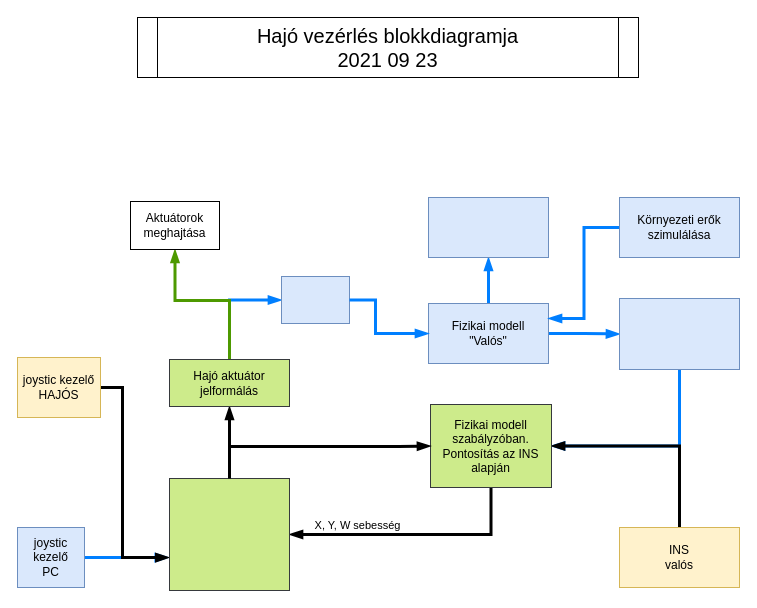
The diagram is 757 pixels wide and 608 high, and some of its shapes have lost their labels. The box of each missing label's shape, as (x1, y1, x2, y2) in pixels:
Hajó aktuátor modell: (280, 276, 350, 324)
INS szimulált + GPS hiba: (618, 298, 740, 370)
Megjelenító PC-n: (428, 196, 548, 258)
PI x, y, w szabályzók + Aktuátorokra szétosztás: (168, 478, 290, 590)
